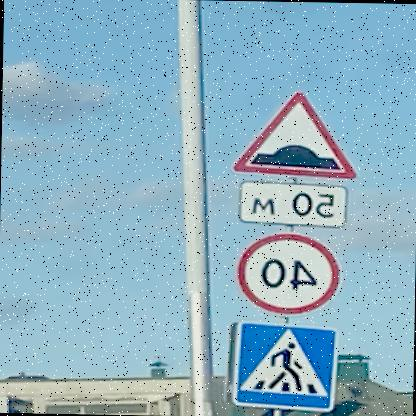crosswalk: (235, 320, 344, 410)
speedlimit: (237, 230, 344, 316)
